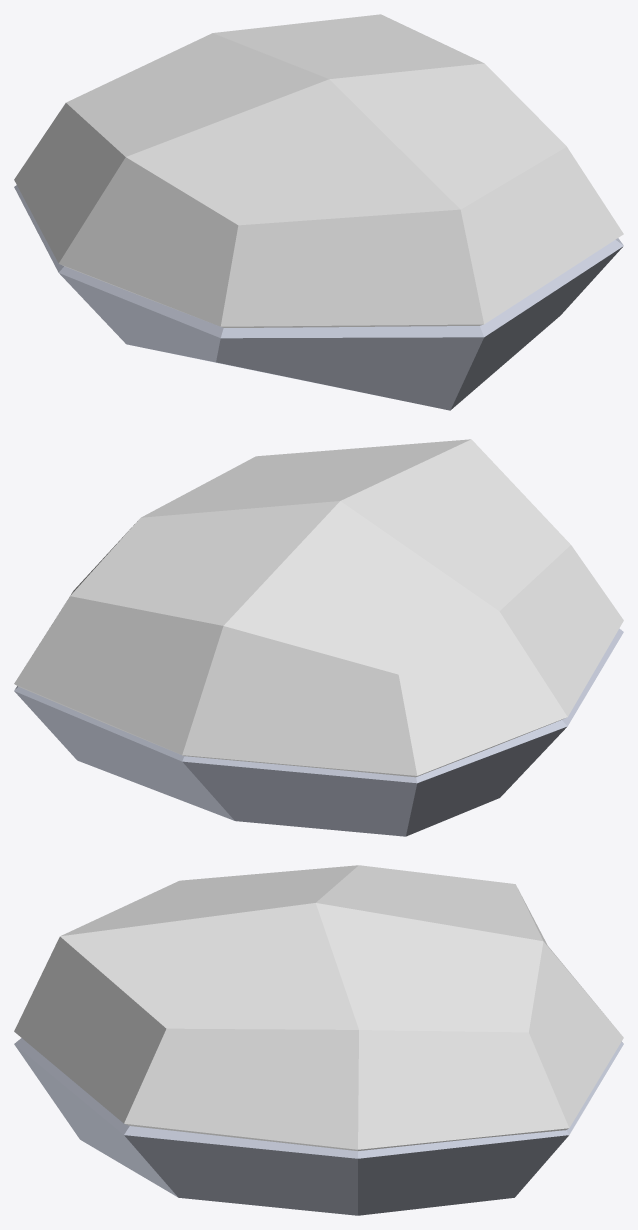
The model's file is Clam.fbx.
The picture shows the model from 3 angles, top to bottom: view 1: azimuth 30°, elevation 25°; view 2: azimuth 150°, elevation 25°; view 3: azimuth 270°, elevation 25°; orthographic projection. The views are drawn at different scales.
Visible parts, largest first — view 1: Top, Bottom; view 2: Top, Bottom; view 3: Top, Bottom.
Boxes of the visible parts, bbox=[...] form: Top: bbox=[14, 14, 623, 327]; Bottom: bbox=[14, 185, 623, 410]; Top: bbox=[14, 439, 623, 777]; Bottom: bbox=[14, 628, 623, 836]; Top: bbox=[14, 865, 623, 1150]; Bottom: bbox=[14, 1038, 623, 1215].
Bounding box in the file's own units: 208 × 98.89 × 228.
